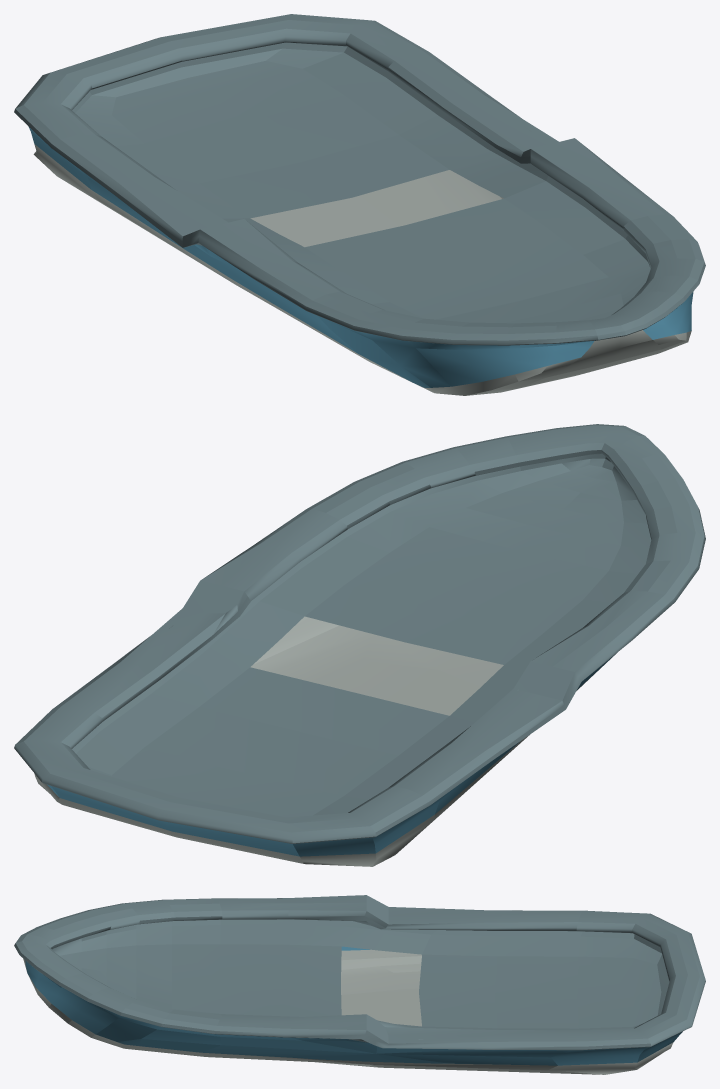
The model's file is fujita-houseboat-hull.glb.
The picture shows the model from 3 angles, top to bottom: view 1: azimuth 30°, elevation 25°; view 2: azimuth 150°, elevation 25°; view 3: azimuth 270°, elevation 25°; orthographic projection. The views are drawn at different scales.
Visible parts, largest first — view 1: Houseboat gunwale, Houseboat inner hull, Houseboat hull; view 2: Houseboat gunwale, Houseboat inner hull, Houseboat hull; view 3: Houseboat gunwale, Houseboat hull, Houseboat inner hull.
Part boxes in pixels (box(x1,y1,x2,y2)): Houseboat gunwale: box(14, 14, 705, 345); Houseboat inner hull: box(33, 144, 691, 395); Houseboat hull: box(28, 126, 693, 387); Houseboat gunwale: box(14, 424, 705, 843); Houseboat inner hull: box(34, 616, 616, 866); Houseboat hull: box(47, 654, 615, 856); Houseboat gunwale: box(14, 895, 705, 1050); Houseboat hull: box(25, 946, 682, 1065); Houseboat inner hull: box(23, 949, 673, 1074).
Bounding box in the file's own units: 3.38 × 0.9298 × 7.16.
